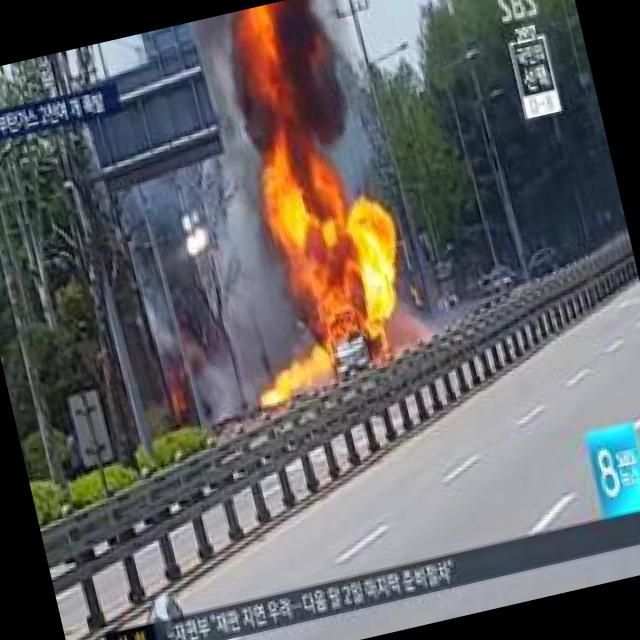Fire: (171, 0, 427, 414), (258, 351, 338, 408)
